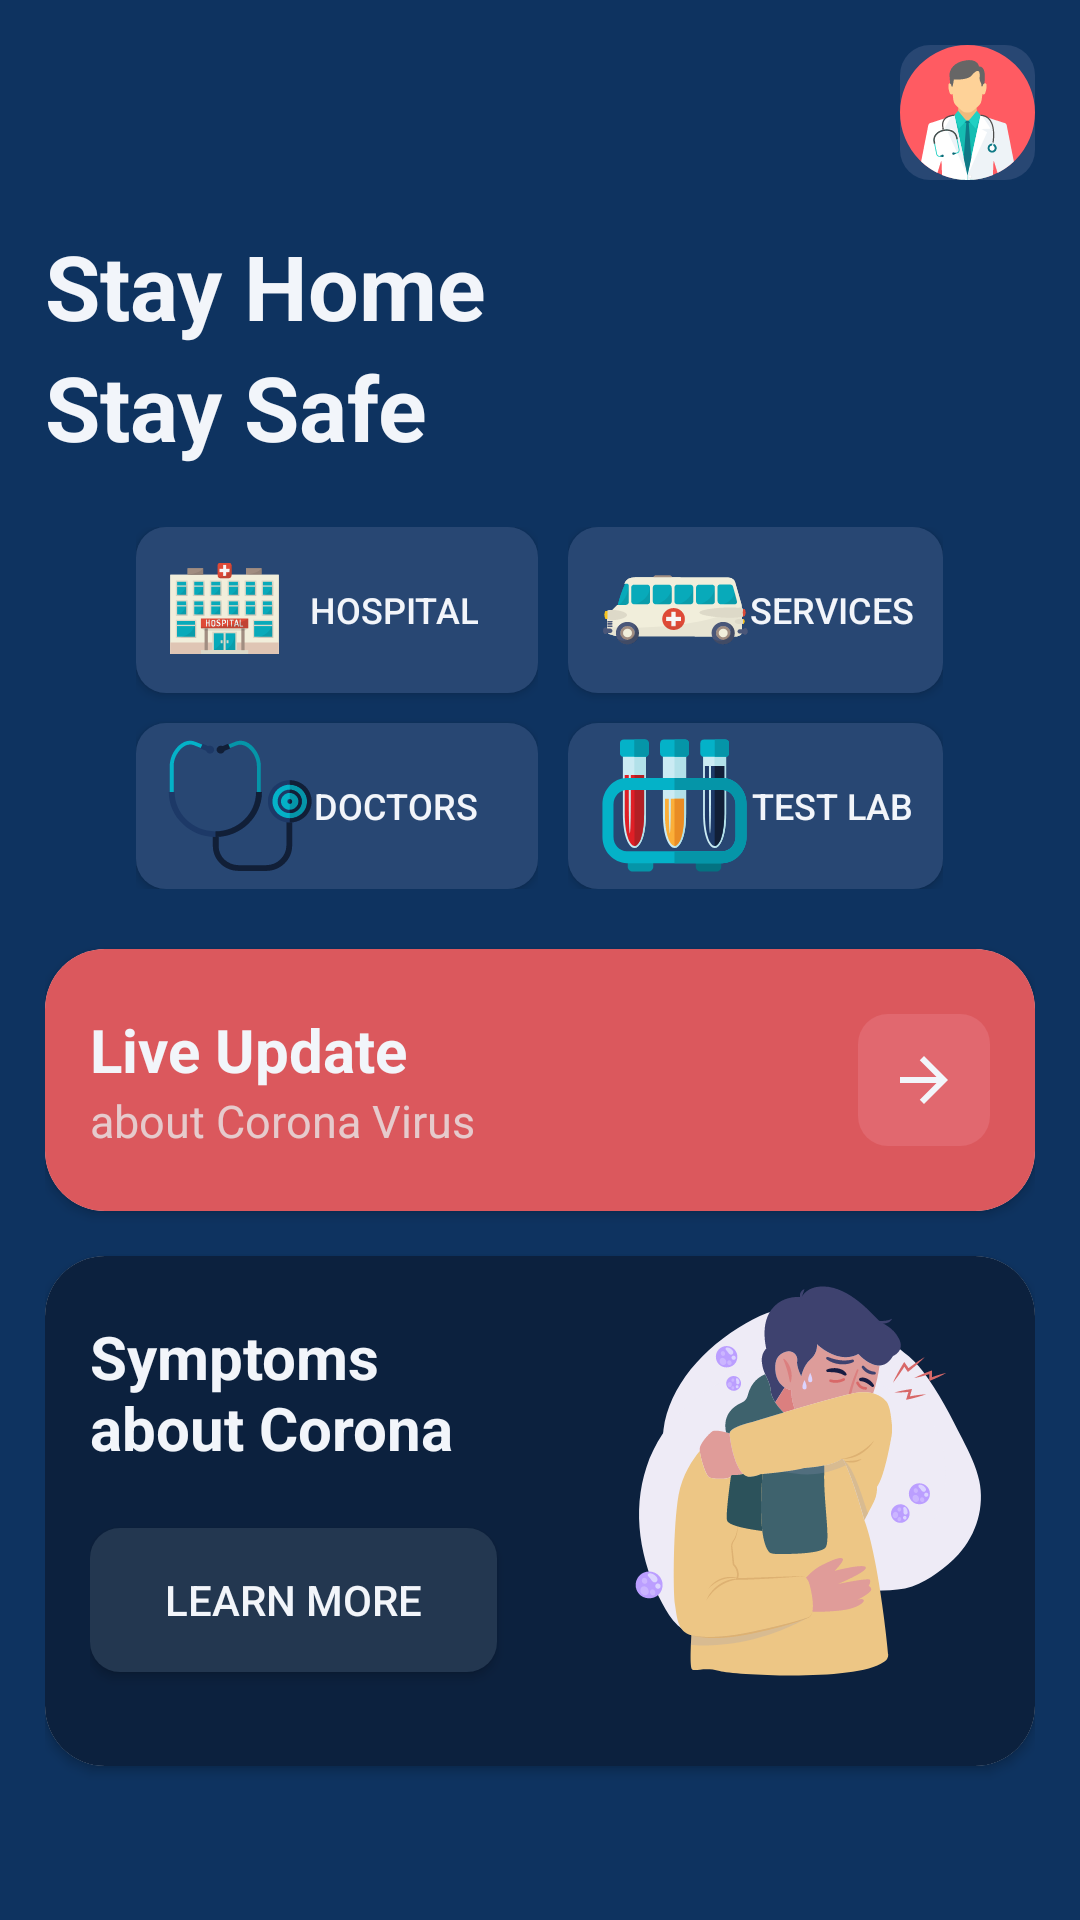

Where to tap for icons on this 1080*1920 app screen, as [x,y]:
arrow forward: [924,1080]
